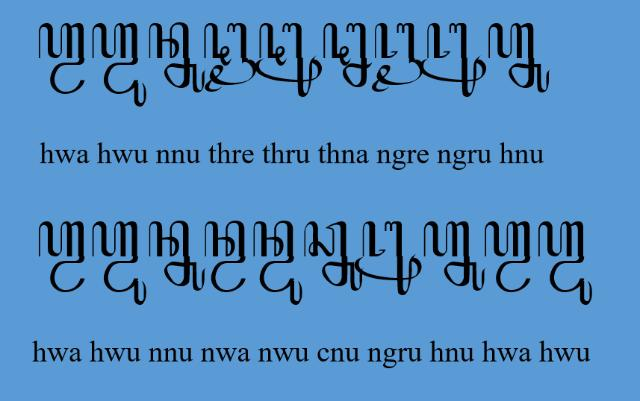cnu: (304, 221, 364, 291)
hnu: (488, 23, 550, 94), (424, 221, 486, 291)
hw: (38, 22, 86, 96), (38, 221, 86, 293), (484, 222, 530, 292)
hwu: (92, 221, 148, 306), (538, 220, 592, 306), (92, 21, 146, 106)
ngre: (372, 24, 422, 92)
ngru: (354, 221, 422, 295), (422, 22, 486, 98)
nnu: (148, 221, 206, 293), (148, 23, 206, 94)
nw: (204, 221, 246, 294)
nwu: (253, 220, 303, 306)
thn: (323, 22, 373, 88)
thre: (204, 23, 256, 93)
thru: (255, 22, 323, 98)
